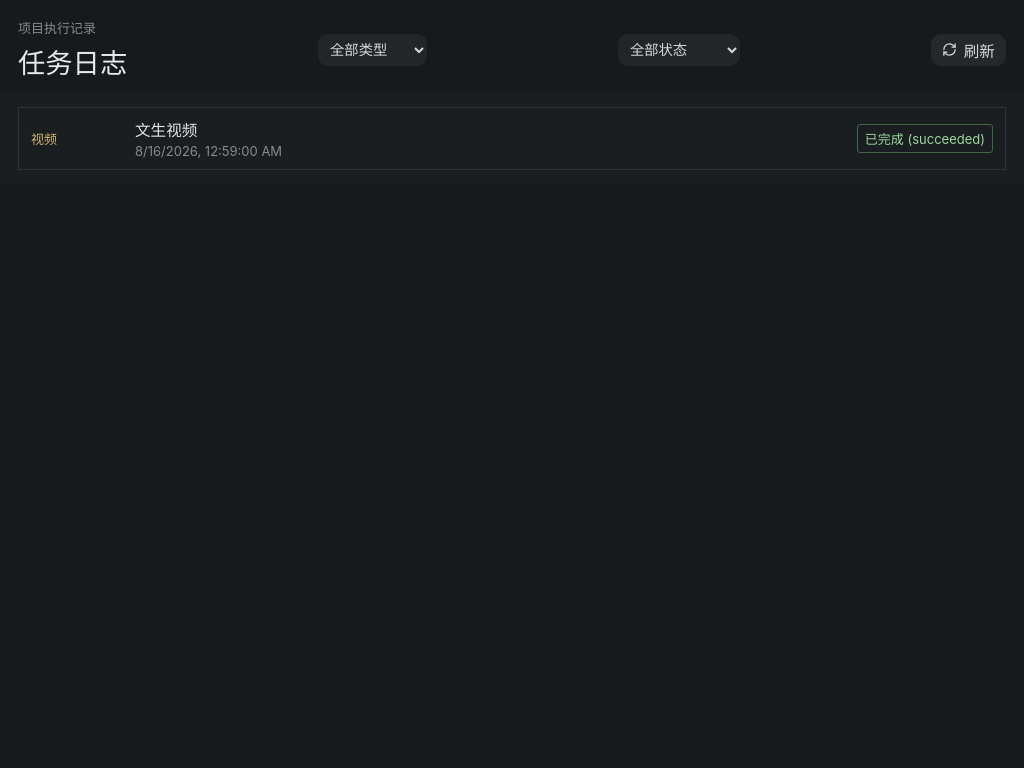
Scenario: TaskLogView › loads full video job details
The width and height of the screenshot is (1024, 768).
Click the button "视频 文生视频 8/16/2026, 12:59:00 AM 已完成 (succeeded)" at (166, 130), box 18,107 -> 1006,170
(page scrolled)
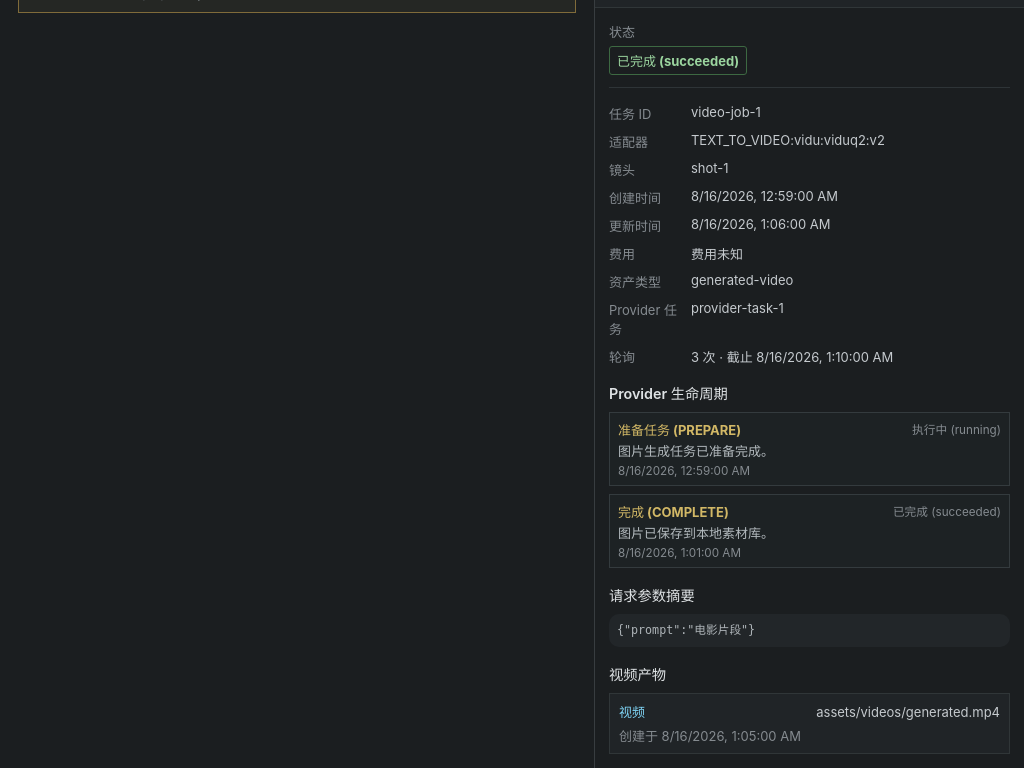
Now the heading "视频产物" is shown, box 609,666 -> 666,683
Now the text "provider-task-1" is shown, box 691,300 -> 784,316
Now the text "assets/videos/generated.mp4" is shown, box 816,704 -> 1000,720
